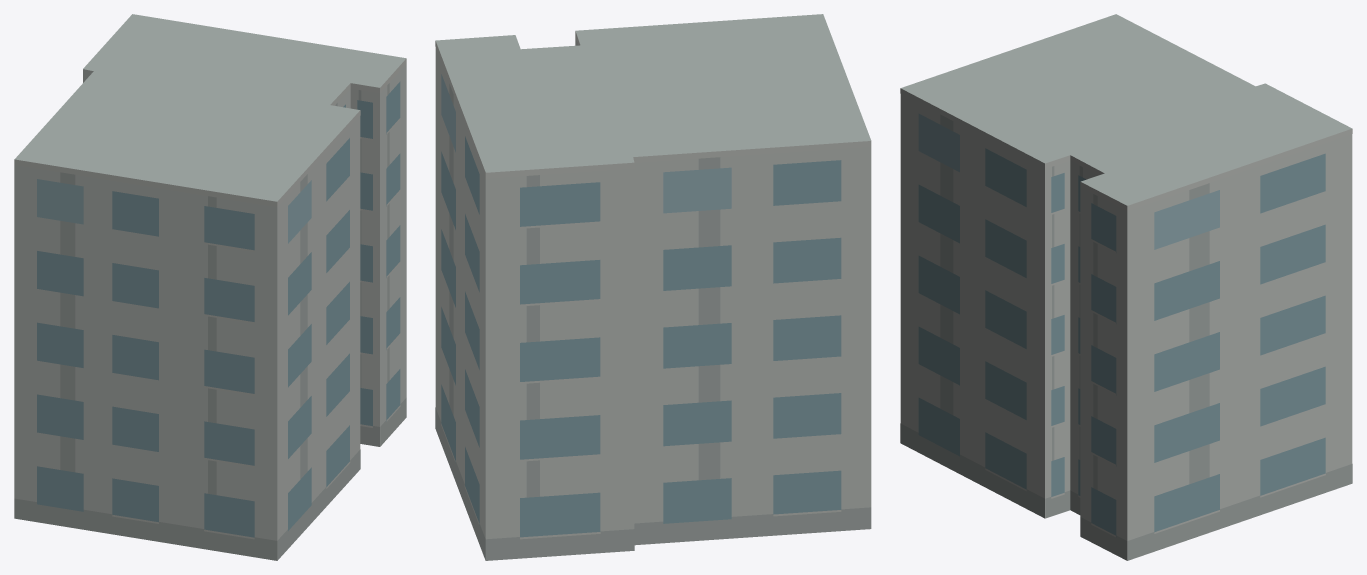
The model's file is survey-upis-32999234.glb.
The picture shows the model from 3 angles, left to right: view 1: azimuth 30°, elevation 25°; view 2: azimuth 150°, elevation 25°; view 3: azimuth 270°, elevation 25°; orthographic projection. The views are drawn at different scales.
Parts seen in each view (by area): view 1: survey-upis-32999234.tmp; view 2: survey-upis-32999234.tmp; view 3: survey-upis-32999234.tmp.
Boxes of the visible parts, x1=… form: survey-upis-32999234.tmp: x1=14, y1=14, x2=406, y2=560; survey-upis-32999234.tmp: x1=435, y1=14, x2=871, y2=560; survey-upis-32999234.tmp: x1=900, y1=14, x2=1352, y2=560.
Size of the model in its own units: 18.44 by 15.9 by 18.35.
